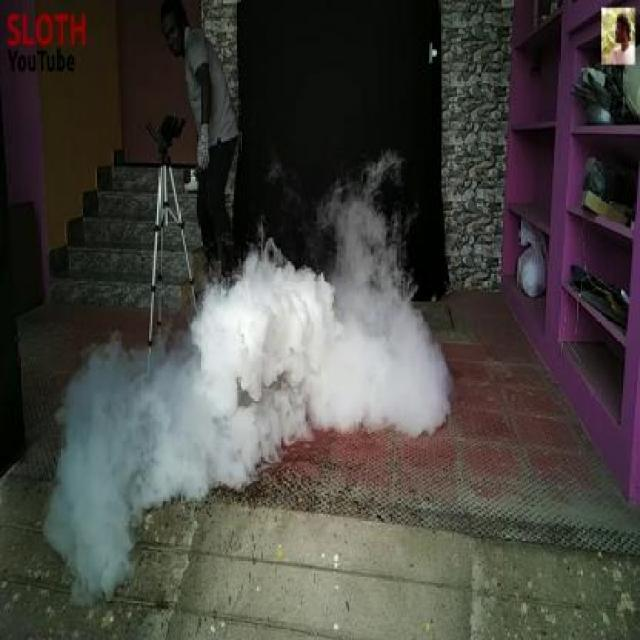smoke: (180, 228, 454, 440)
